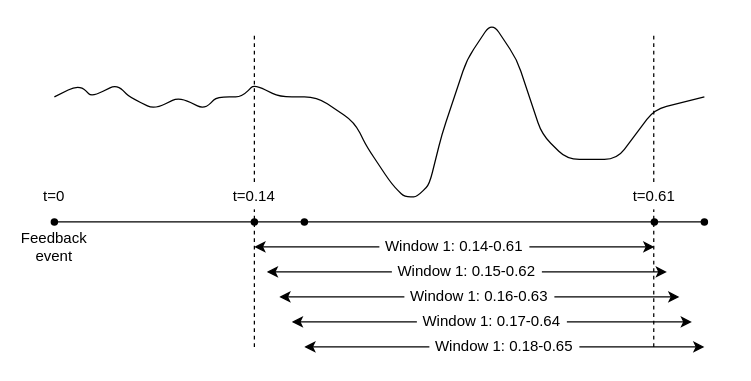
Image size: 751x381. Some labels were removed from this diagram. Each missing label, with the centre of its shape:
t=0.18: the point at 303,221
t=0.65: the point at 703,221
